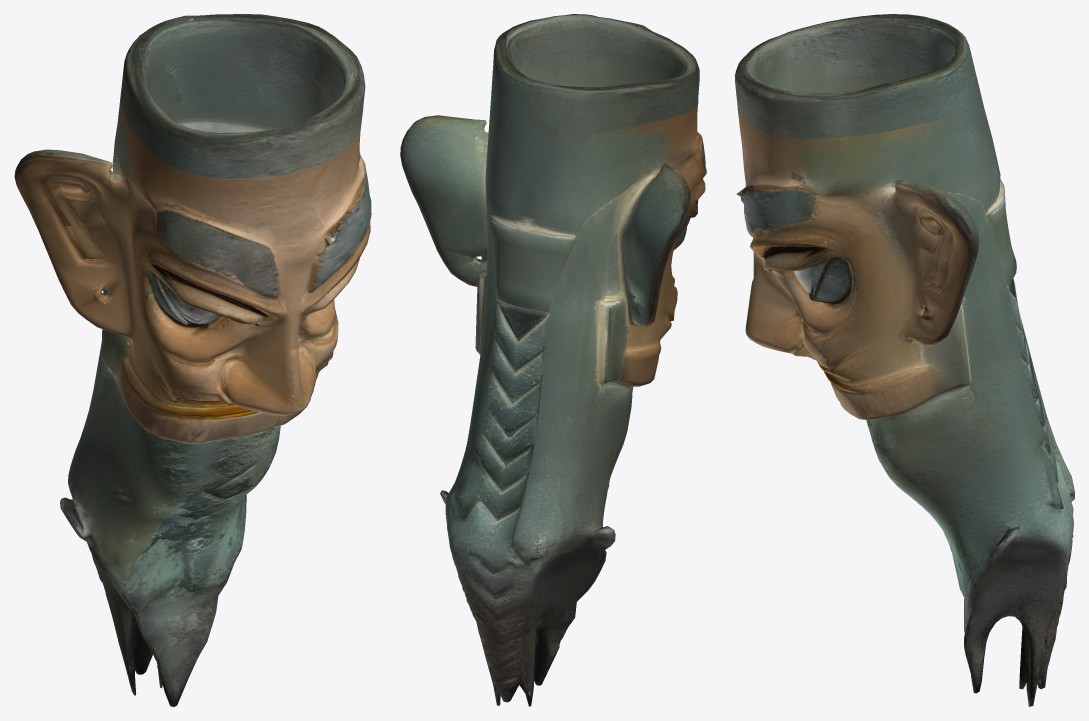
3 views of the same model, side by side, from view 1: azimuth 30°, elevation 25°; view 2: azimuth 150°, elevation 25°; view 3: azimuth 270°, elevation 25° (orthographic). The views are drawn at different scales.
Parts seen in each view (by area): view 1: material; view 2: material; view 3: material.
Boxes of the visible parts, left/top/right/bottom form: material: left=14, top=14, right=371, bottom=706; material: left=400, top=14, right=706, bottom=706; material: left=735, top=14, right=1074, bottom=706.
Bounding box in the file's own units: 0.9412 × 1.9 × 0.8924.
Materials: 1 (1 with a texture image).
